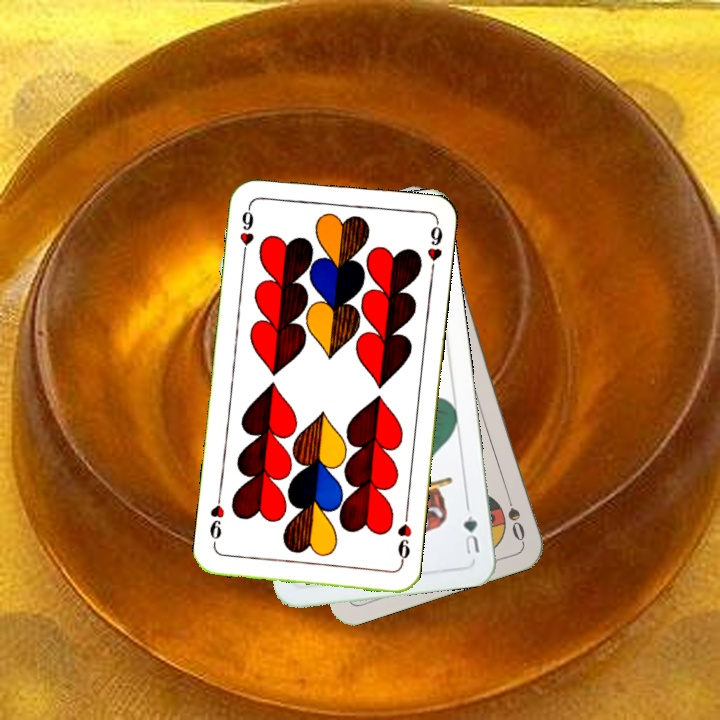GU: (459, 511, 482, 557)
H9: (235, 201, 257, 260), (393, 509, 414, 568)
SO: (501, 486, 528, 544)
